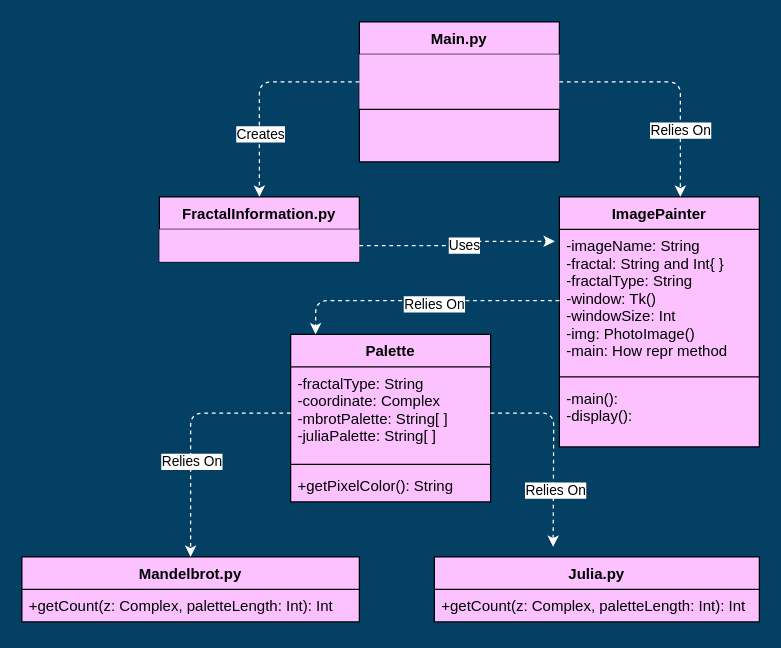
This 781x648 diagram has some shape labels left out. The shapes that lost their labels are listed below. From the top down, each one's centre as x and y in pixels, then its label:
At pixel 459 81: "+JULIAS: String[ ] +MBROTS: String[ ]".
At pixel 458 135: "+ displayOptions():".
At pixel 259 245: "+fractals: String and Int{ }".
